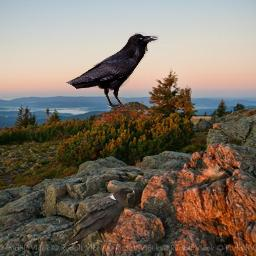Crow: (65, 31, 159, 107), (63, 185, 135, 249)
